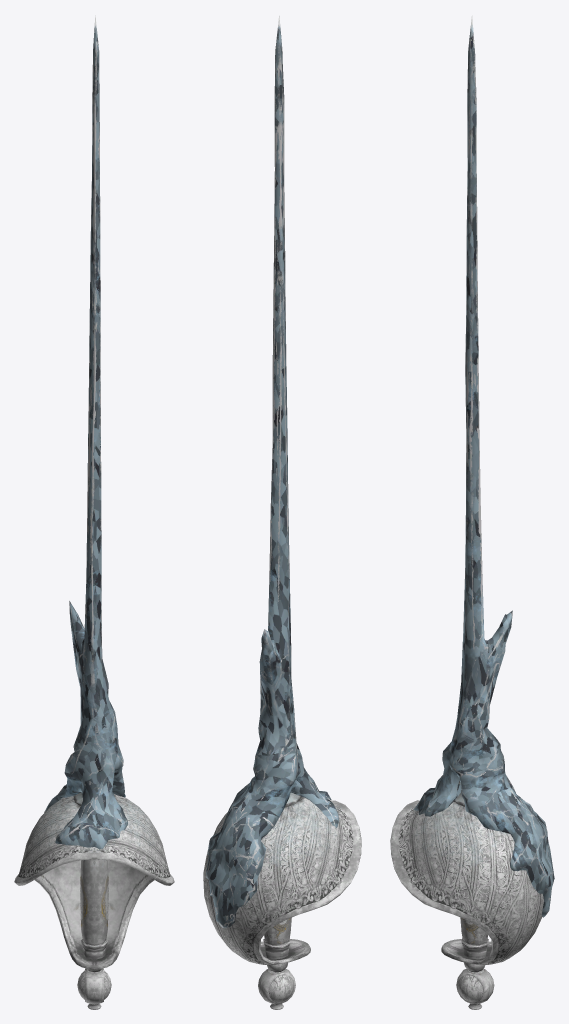
The model's file is so_pd_frozenneedleoh.glb.
3 views of the same model, side by side, from view 1: azimuth 30°, elevation 25°; view 2: azimuth 150°, elevation 25°; view 3: azimuth 270°, elevation 25° (orthographic).
Parts seen in each view (by area): view 1: FrozenNeedle; view 2: FrozenNeedle; view 3: FrozenNeedle.
Part boxes in pixels (x1,y1,x2,y2): FrozenNeedle: (14,15,174,1009); FrozenNeedle: (203,15,361,1009); FrozenNeedle: (390,15,554,1009).
Size of the model in its own units: 10.72 by 73.15 by 10.96.
1 material, 1 textured.
